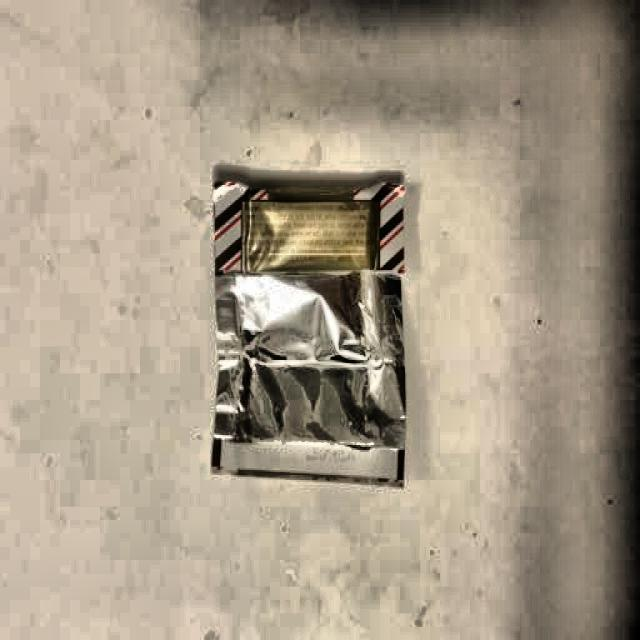trash: (202, 172, 424, 482)
